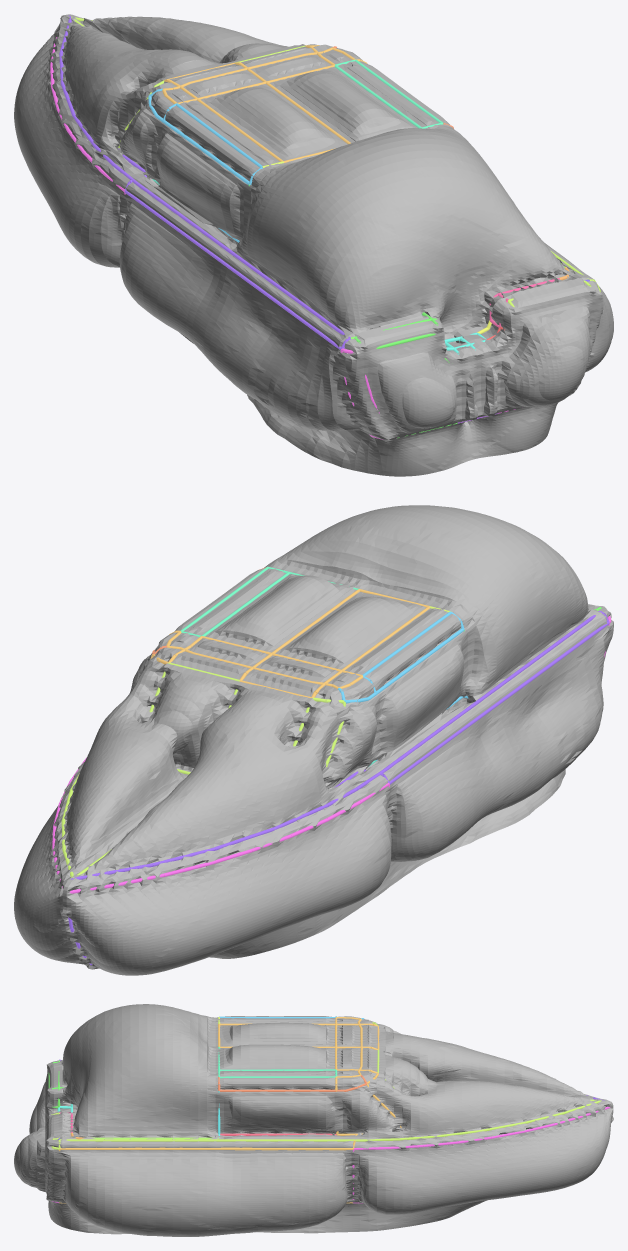
Rendered from flowrep_boat.gltf.
3 views of the same model, one above another, from view 1: azimuth 30°, elevation 25°; view 2: azimuth 150°, elevation 25°; view 3: azimuth 270°, elevation 25° (orthographic). The views are drawn at different scales.
Size of the model in its own units: 0.4349 by 0.3249 by 0.9823.
